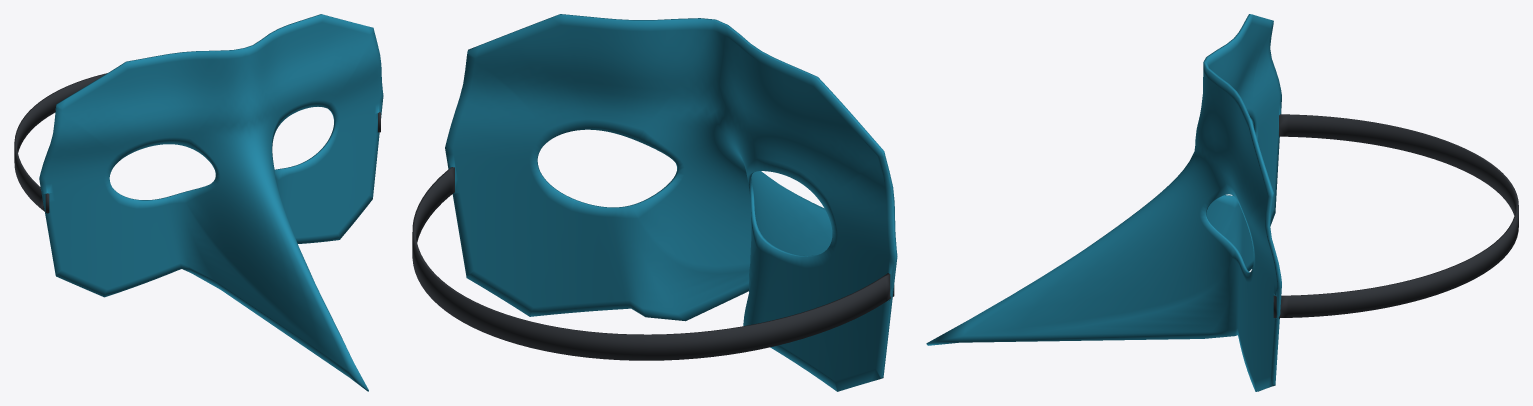
3 renders of one model, left to right at view 1: azimuth 30°, elevation 25°; view 2: azimuth 150°, elevation 25°; view 3: azimuth 270°, elevation 25°, orthographic. The views are drawn at different scales.
Parts seen in each view (by area): view 1: Closed mask shell and rear strap assembly; view 2: Closed mask shell and rear strap assembly; view 3: Closed mask shell and rear strap assembly.
Boxes of the visible parts, left/top/right/bottom form: Closed mask shell and rear strap assembly: left=14, top=14, right=383, bottom=391; Closed mask shell and rear strap assembly: left=412, top=14, right=897, bottom=391; Closed mask shell and rear strap assembly: left=926, top=14, right=1518, bottom=391.
Size of the model in its own units: 0.228 by 0.1603 by 0.3037.
